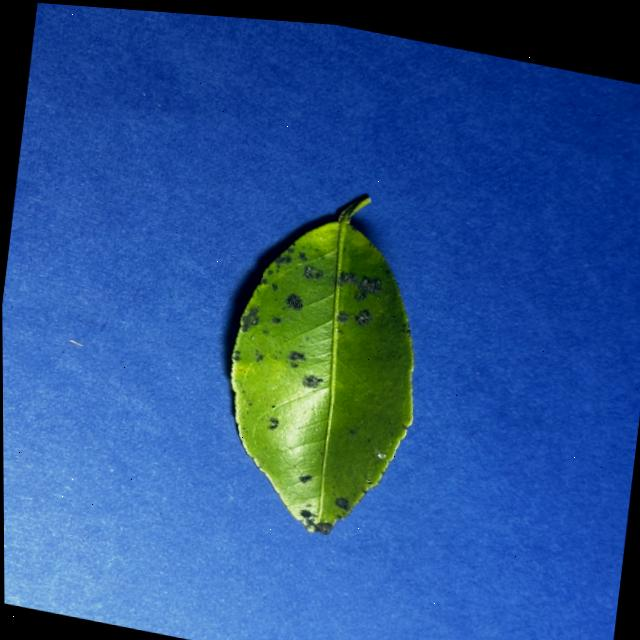sooty_mold: (231, 197, 413, 534)
